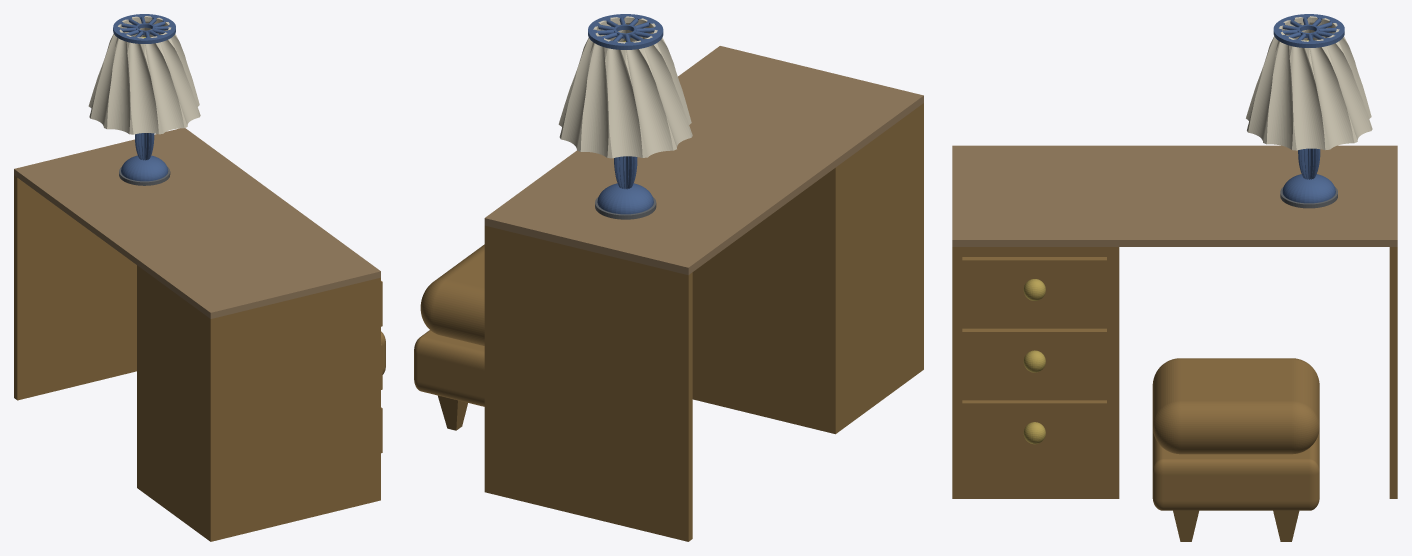
The model's file is DESK.glb.
3 renders of one model, left to right at view 1: azimuth 30°, elevation 25°; view 2: azimuth 150°, elevation 25°; view 3: azimuth 270°, elevation 25°, orthographic. The views are drawn at different scales.
Visible parts, largest first — view 1: Mesh_Mesh_head_geo.001_lambert2SG.001; view 2: Mesh_Mesh_head_geo.001_lambert2SG.001; view 3: Mesh_Mesh_head_geo.001_lambert2SG.001.
Boxes of the visible parts, x1=… form: Mesh_Mesh_head_geo.001_lambert2SG.001: x1=14, y1=14, x2=385, y2=541; Mesh_Mesh_head_geo.001_lambert2SG.001: x1=414, y1=14, x2=923, y2=541; Mesh_Mesh_head_geo.001_lambert2SG.001: x1=952, y1=14, x2=1397, y2=541.
Bounding box in the file's own units: 0.0313 × 0.0423 × 0.04.
